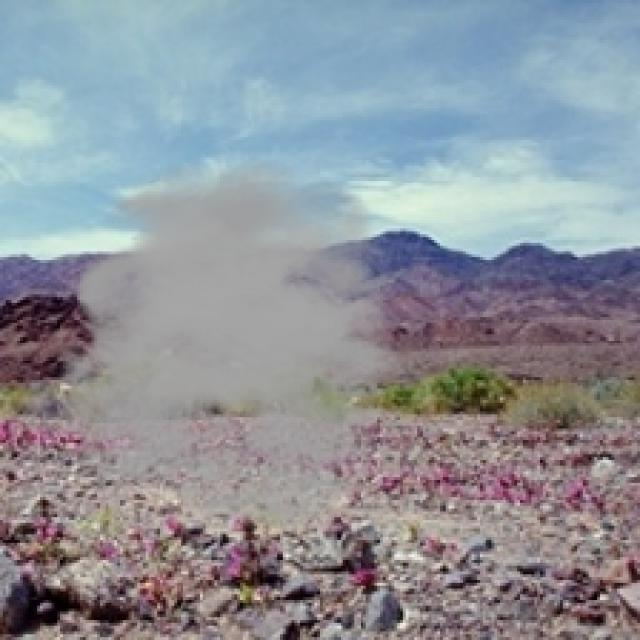smoke: (40, 160, 443, 531)
